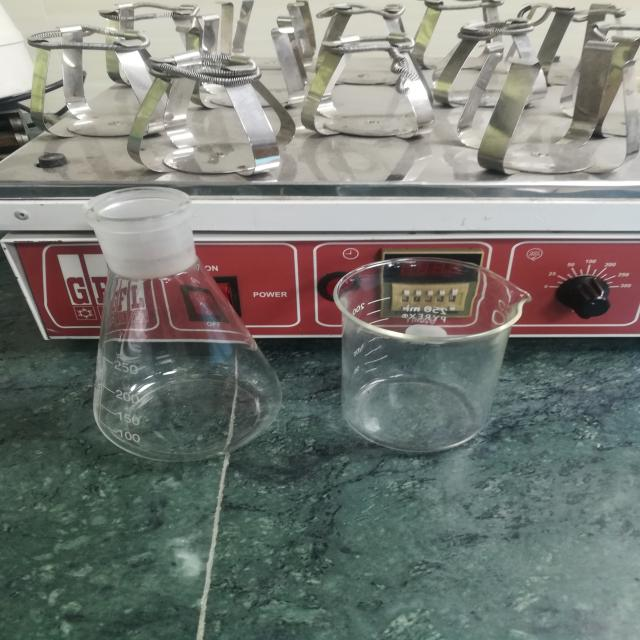Beaker: (315, 247, 545, 471)
Conical_Flask: (61, 176, 296, 480)
